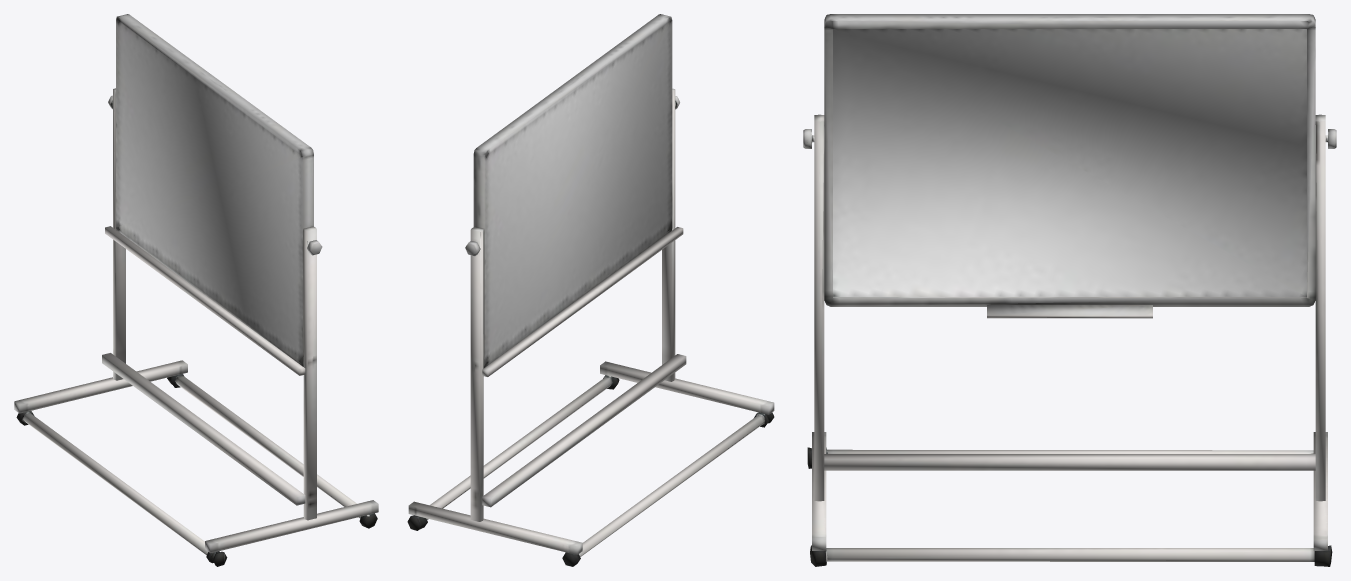
File: bang.fbx
3 renders of one model, left to right at view 1: azimuth 30°, elevation 25°; view 2: azimuth 150°, elevation 25°; view 3: azimuth 270°, elevation 25°, orthographic. The views are drawn at different scales.
Parts seen in each view (by area): view 1: tripo_node_16ffaceb; view 2: tripo_node_16ffaceb; view 3: tripo_node_16ffaceb.
Part boxes in pixels (box(x1,y1,x2,y2)): tripo_node_16ffaceb: box(14, 14, 378, 566); tripo_node_16ffaceb: box(407, 14, 774, 566); tripo_node_16ffaceb: box(803, 14, 1336, 566).
Bounding box in the file's own units: 45.51 × 99.8 × 94.73.
Materials: 1 (1 with a texture image).
